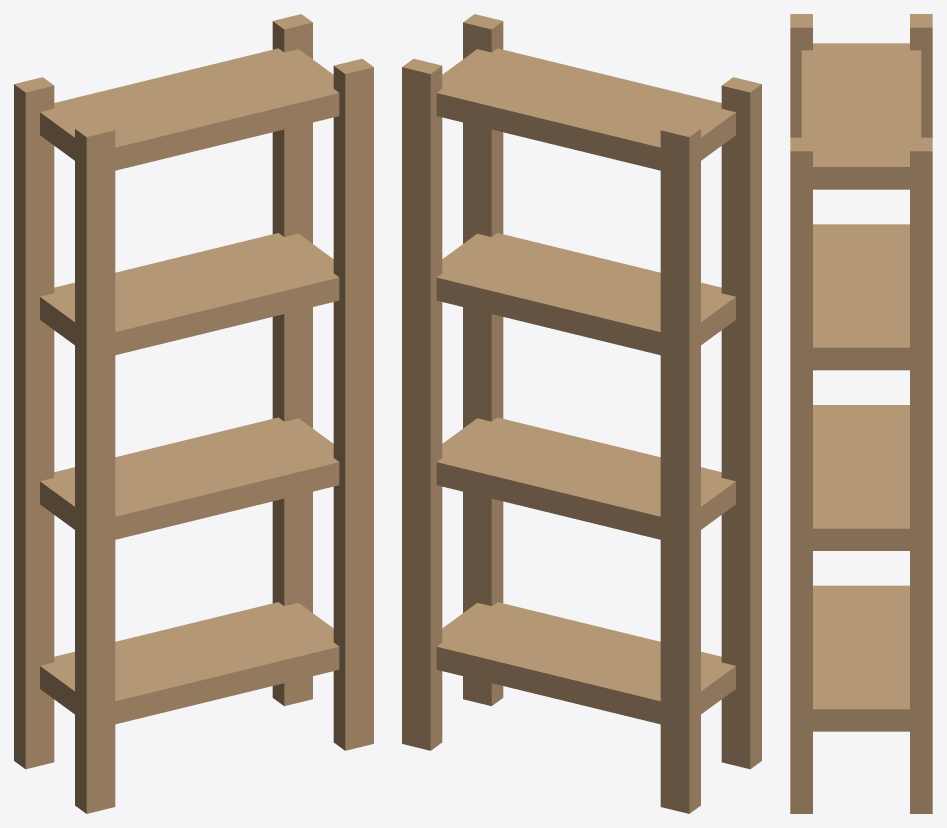
The model's file is bookcase-open.glb.
3 renders of one model, left to right at view 1: azimuth 30°, elevation 25°; view 2: azimuth 150°, elevation 25°; view 3: azimuth 270°, elevation 25°, orthographic. The views are drawn at different scales.
Parts seen in each view (by area): view 1: bookcase-open; view 2: bookcase-open; view 3: bookcase-open.
Boxes of the visible parts, bbox=[...] form: bookcase-open: bbox=[14, 14, 373, 813]; bookcase-open: bbox=[402, 14, 761, 813]; bookcase-open: bbox=[790, 14, 932, 813].
Size of the model in its own units: 0.8 by 1.8 by 0.35.
